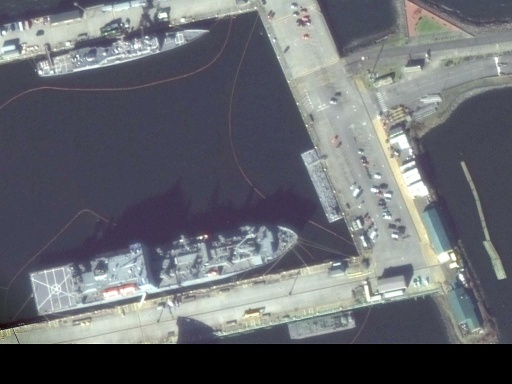ship: (27, 212, 302, 316), (34, 21, 212, 81)
